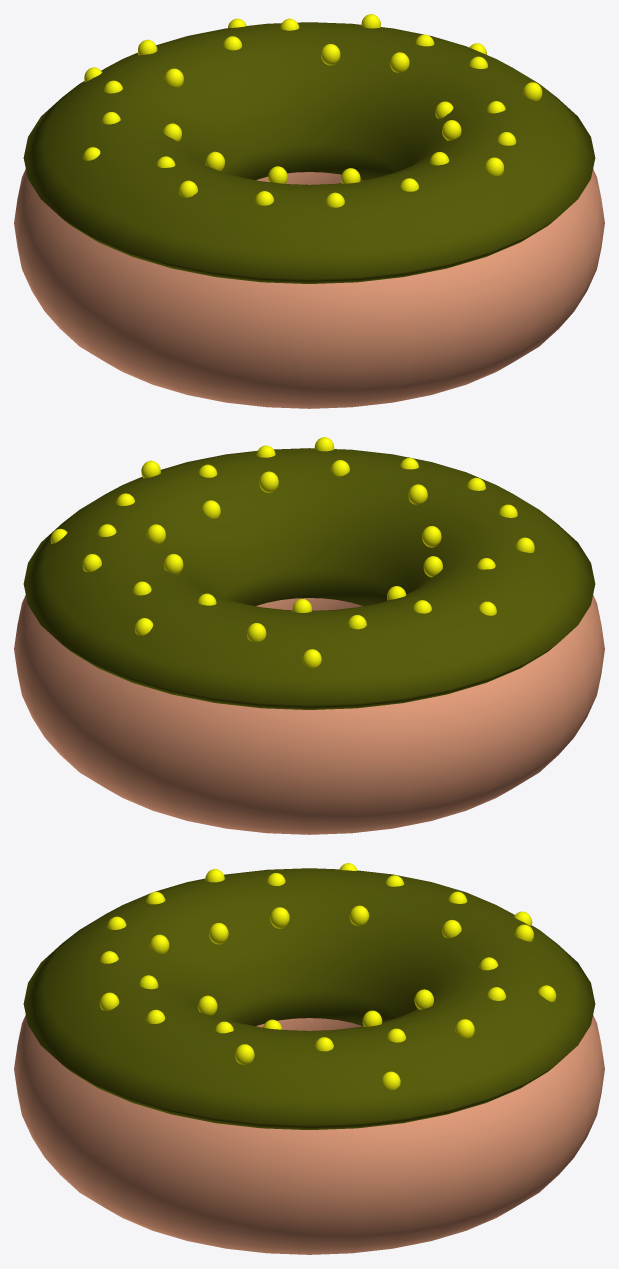
Rendered from 1_DONUT.fbx.
3 views of the same model, one above another, from view 1: azimuth 30°, elevation 25°; view 2: azimuth 150°, elevation 25°; view 3: azimuth 270°, elevation 25° (orthographic).
Parts seen in each view (by area): view 1: Torus.001, Torus, Sphere.017; view 2: Torus.001, Torus, Sphere.017; view 3: Torus.001, Torus, Sphere.017.
Boxes of the visible parts, <box> form: Torus.001: <box>23,22,595,283</box>; Torus: <box>14,169,604,408</box>; Sphere.017: <box>83,14,542,207</box>; Torus.001: <box>23,448,595,709</box>; Torus: <box>14,595,604,834</box>; Sphere.017: <box>50,437,534,667</box>; Torus.001: <box>23,868,595,1129</box>; Torus: <box>14,1015,604,1254</box>; Sphere.017: <box>99,863,556,1089</box>.
Bounding box in the file's own units: 301 × 119 × 301.
